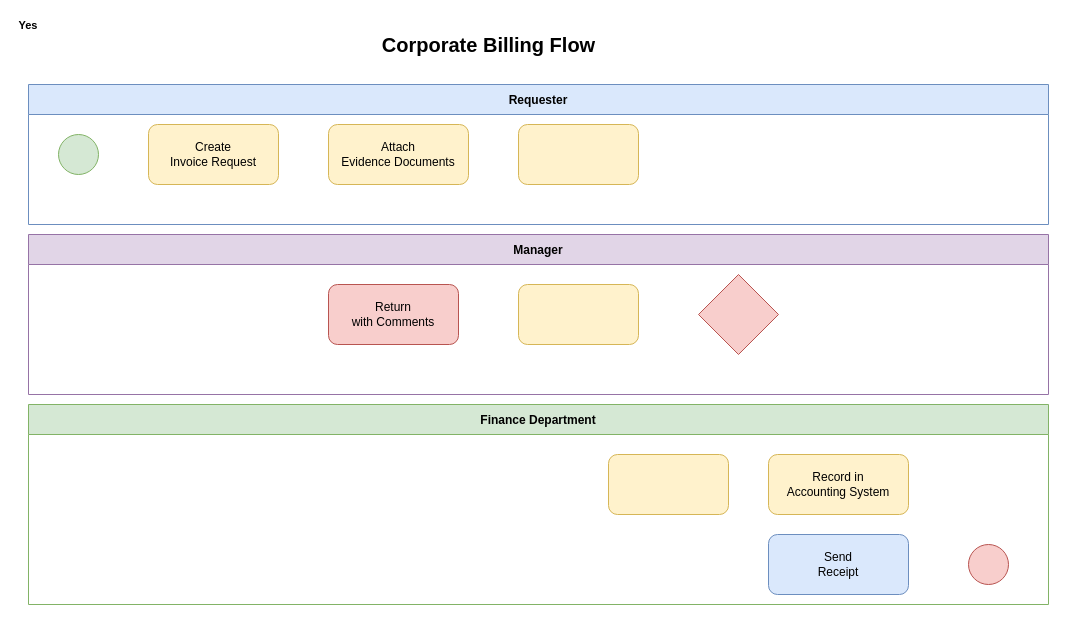
The diagram is 1066 pixels wide and 622 high, and some of its shapes have lost their labels. The centre of each missing label's shape, as x and y in pixels:
"Approved?" belongs at (738,314).
"Process Payment" belongs at (668,484).
"Review Invoice" belongs at (578,314).
"Submit for Approval" belongs at (578,154).
